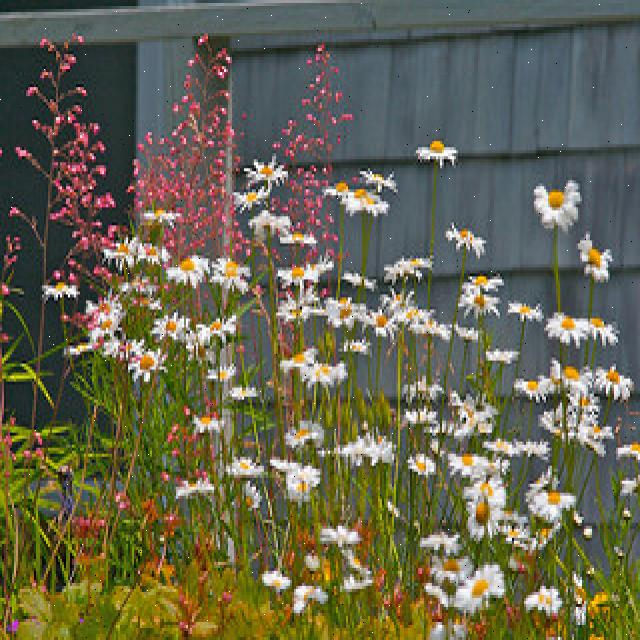Bloomed: (0, 24, 638, 637)
